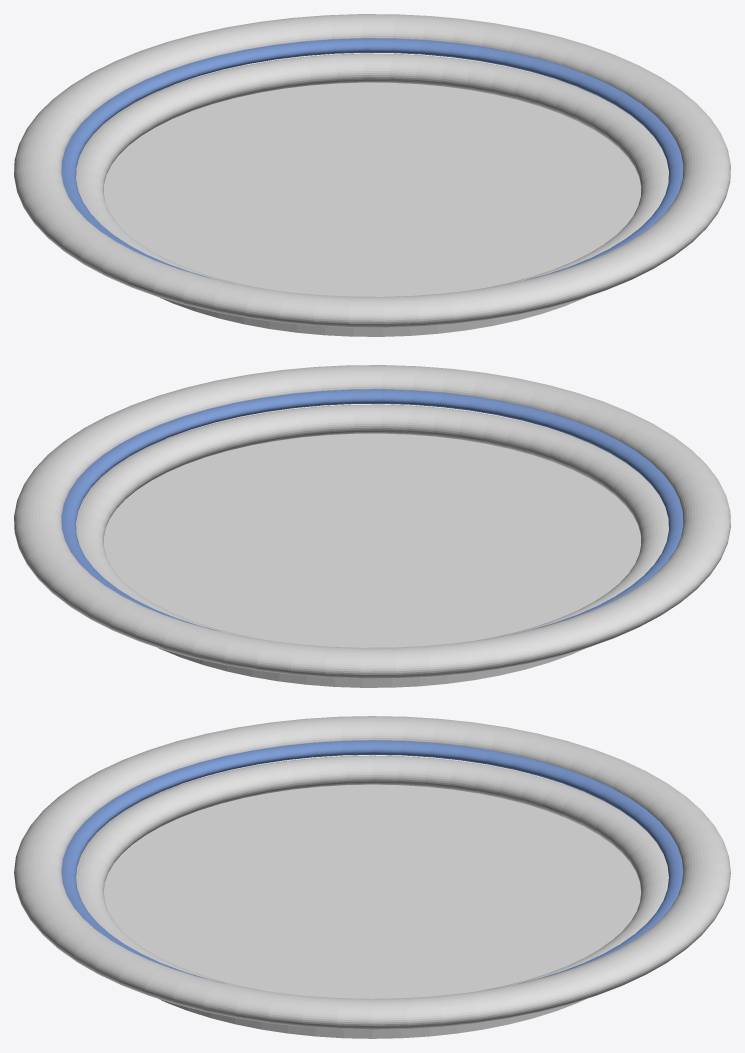
File: plate.fbx
3 renders of one model, top to bottom at view 1: azimuth 30°, elevation 25°; view 2: azimuth 150°, elevation 25°; view 3: azimuth 270°, elevation 25°, orthographic.
Parts seen in each view (by area): view 1: Torus.006; view 2: Torus.006; view 3: Torus.006.
Boxes of the visible parts, x1=… form: Torus.006: x1=14, y1=14, x2=730, y2=336; Torus.006: x1=14, y1=365, x2=730, y2=687; Torus.006: x1=14, y1=716, x2=730, y2=1038.
Bounding box in the file's own units: 222 × 24.96 × 222.
